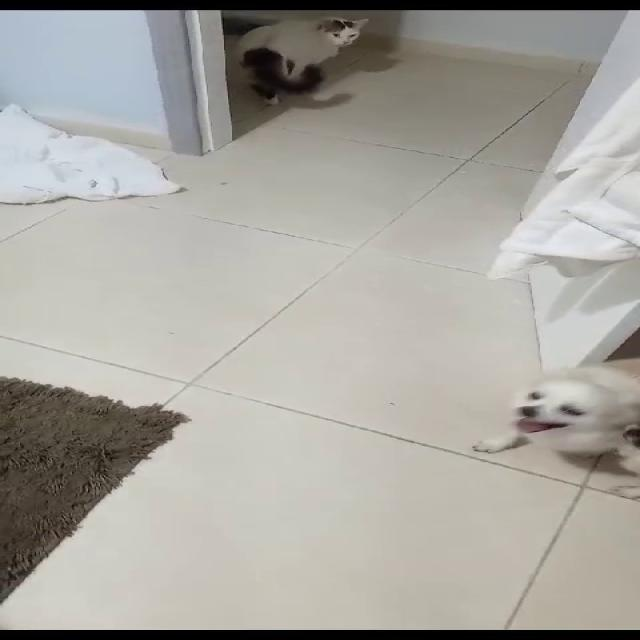Simba: (230, 10, 392, 128)
Theo: (483, 345, 639, 494)
